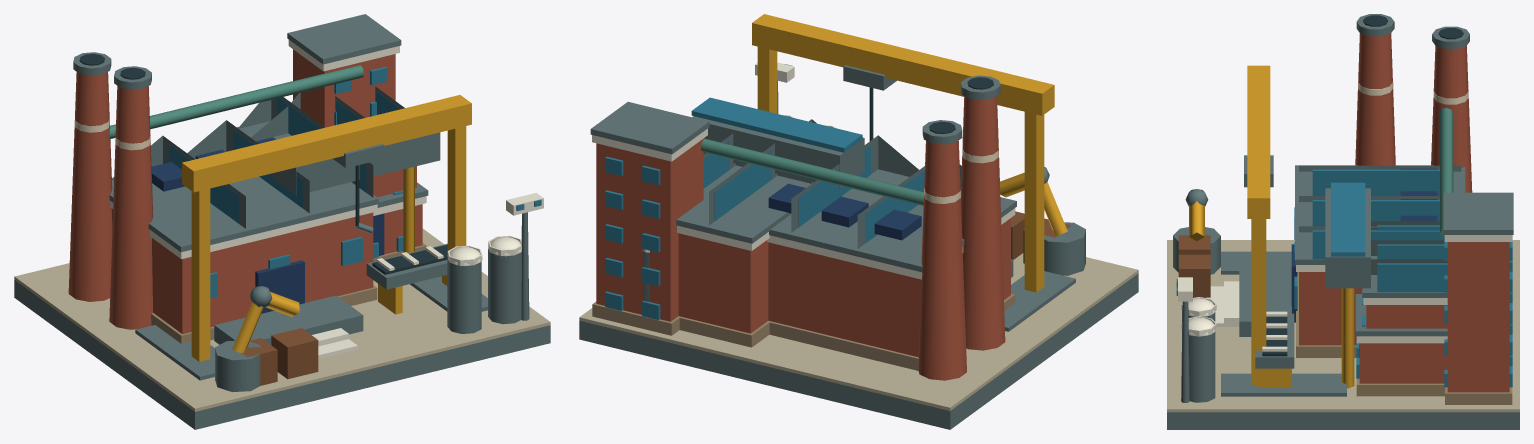
File: factory-lv5.glb
The picture shows the model from 3 angles, left to right: view 1: azimuth 30°, elevation 25°; view 2: azimuth 150°, elevation 25°; view 3: azimuth 270°, elevation 25°; orthographic projection. The views are drawn at different scales.
Visible parts, largest first — view 1: chimney_clay, foundation_paving, main_workshop_clay, foundation_iron, gantry_beam_ochre, main_workshop_roof_iron, gantry_posts_ochre, material_silos_iron, process_tower_clay, logistics_bridge_iron, loading_platform_iron, process_tower_roof_iron (+30 smaller); view 2: chimney_clay, foundation_paving, main_workshop_clay, process_tower_clay, foundation_iron, gantry_beam_ochre, second_workshop_clay, main_workshop_roof_iron, gantry_posts_ochre, second_workshop_roof_iron, process_tower_roof_iron, bridge_roof_glass (+22 smaller); view 3: foundation_paving, process_tower_clay, chimney_clay, foundation_iron, main_workshop_skylights_glass, gantry_beam_ochre, warehouse_clay, second_workshop_skylights_glass, gantry_foot_iron, main_workshop_clay, process_tower_roof_iron, bridge_roof_glass (+34 smaller).
Part boxes in pixels (x1,y1,x2,y2): chimney_clay: [68, 72, 153, 329]; foundation_paving: [14, 228, 550, 411]; main_workshop_clay: [111, 208, 373, 333]; foundation_iron: [14, 280, 550, 429]; gantry_beam_ochre: [182, 95, 471, 192]; main_workshop_roof_iron: [109, 176, 378, 252]; gantry_posts_ochre: [191, 126, 466, 361]; material_silos_iron: [447, 249, 521, 333]; process_tower_clay: [293, 49, 395, 127]; logistics_bridge_iron: [272, 132, 440, 195]; loading_platform_iron: [214, 295, 363, 344]; process_tower_roof_iron: [287, 14, 401, 64]; chimney_clay: [918, 96, 1005, 380]; foundation_paving: [579, 253, 1138, 410]; main_workshop_clay: [768, 218, 1010, 357]; process_tower_clay: [596, 138, 703, 321]; foundation_iron: [579, 273, 1138, 429]; gantry_beam_ochre: [752, 14, 1054, 115]; second_workshop_clay: [678, 233, 768, 333]; main_workshop_roof_iron: [769, 169, 1016, 272]; gantry_posts_ochre: [757, 46, 1044, 292]; second_workshop_roof_iron: [676, 165, 812, 243]; process_tower_roof_iron: [590, 102, 709, 154]; bridge_roof_glass: [691, 97, 862, 152]; foundation_paving: [1167, 240, 1519, 412]; process_tower_clay: [1447, 242, 1509, 392]; chimney_clay: [1355, 33, 1472, 192]; foundation_iron: [1167, 412, 1519, 429]; main_workshop_skylights_glass: [1312, 169, 1444, 259]; gantry_beam_ochre: [1247, 65, 1270, 218]; warehouse_clay: [1359, 343, 1447, 383]; second_workshop_skylights_glass: [1377, 225, 1447, 292]; gantry_foot_iron: [1221, 251, 1346, 396]; main_workshop_clay: [1299, 272, 1362, 345]; process_tower_roof_iron: [1443, 192, 1513, 234]; bridge_roof_glass: [1331, 182, 1365, 256].
Size of the model in its own units: 1 by 0.7197 by 0.88.
